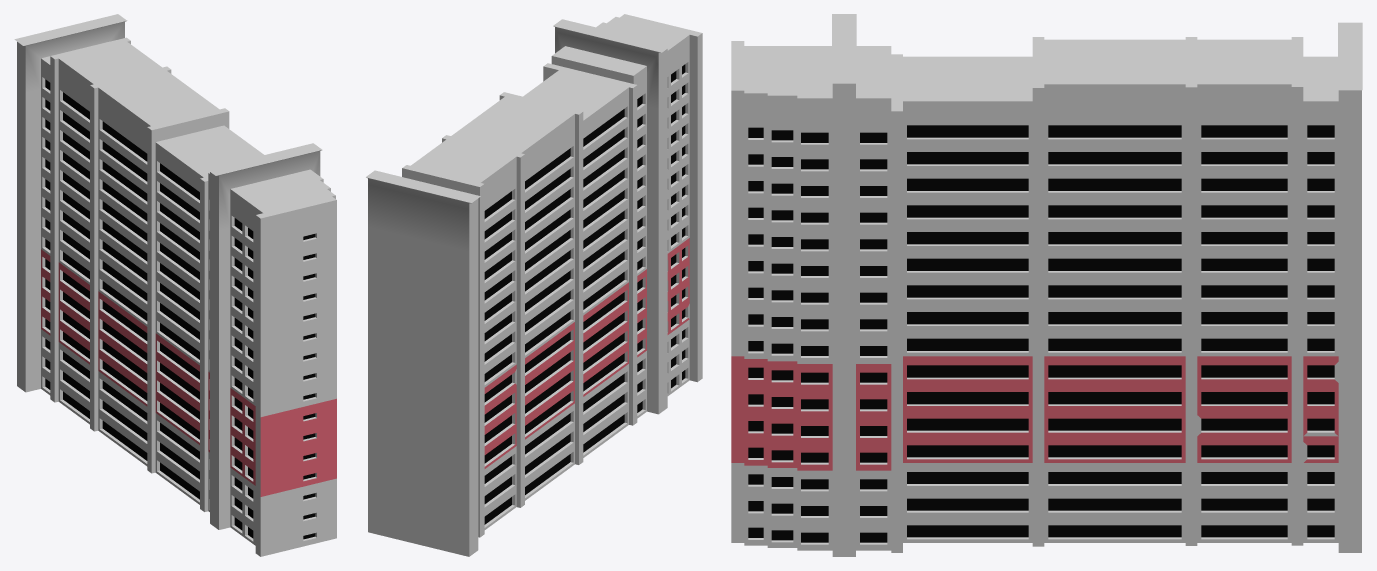
The model's file is HDB.gltf.
The picture shows the model from 3 angles, left to right: view 1: azimuth 30°, elevation 25°; view 2: azimuth 150°, elevation 25°; view 3: azimuth 270°, elevation 25°; orthographic projection. The views are drawn at different scales.
Visible parts, largest first — view 1: HDB4; view 2: HDB4; view 3: HDB4.
Boxes of the visible parts, bbox=[...] form: HDB4: bbox=[14, 14, 336, 556]; HDB4: bbox=[366, 14, 702, 556]; HDB4: bbox=[731, 14, 1362, 556].
Size of the model in its own units: 0.1725 by 0.5324 by 0.6419.
